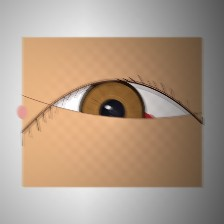hemorrhage_spot: (103, 99, 161, 146)
